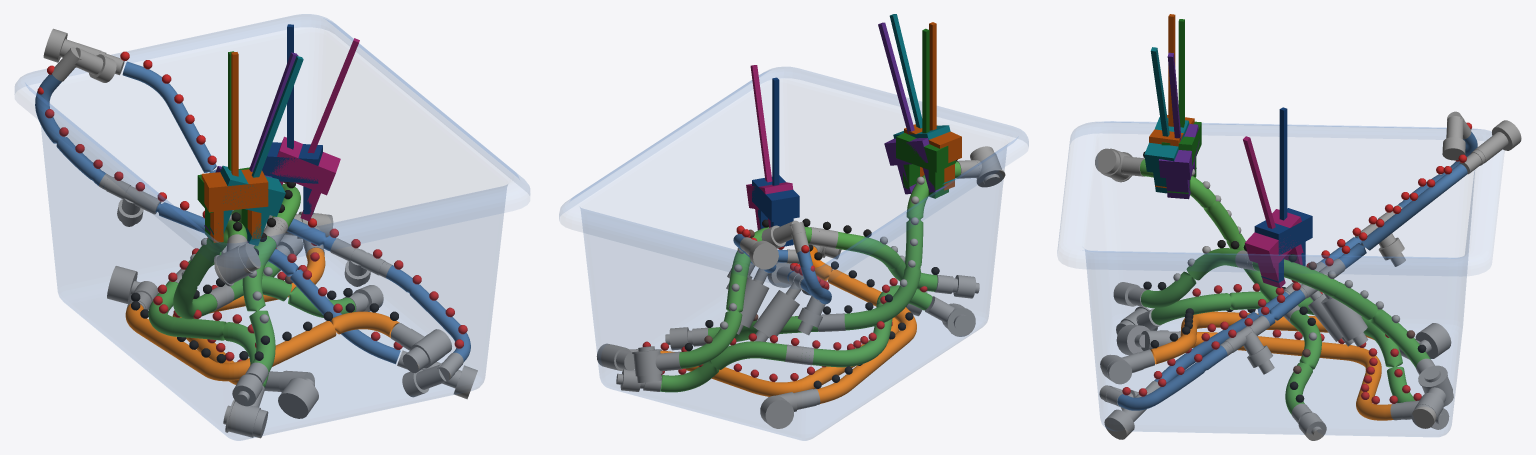
Rendered from bin3d_grasp_all.glb.
3 renders of one model, left to right at view 1: azimuth 30°, elevation 25°; view 2: azimuth 150°, elevation 25°; view 3: azimuth 270°, elevation 25°, orthographic. The views are drawn at different scales.
Visible parts, largest first — view 1: bin1_s08_full_v2t; view 2: bin1_s08_full_v2t; view 3: bin1_s08_full_v2t.
Part boxes in pixels (x1,y1,x2,y2): bin1_s08_full_v2t: (15, 14, 529, 440); bin1_s08_full_v2t: (559, 14, 1028, 440); bin1_s08_full_v2t: (1057, 14, 1521, 440).
Size of the model in its own units: 0.3086 by 0.3365 by 0.4228.
